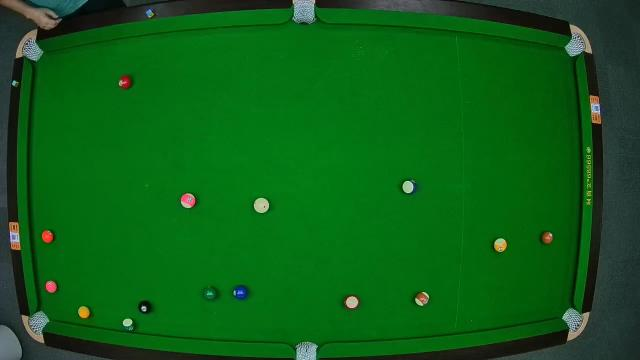bag1: (22, 40, 40, 60)
bag2: (294, 1, 316, 25)
bag3: (567, 33, 587, 57)
bag4: (29, 310, 47, 332)
bag5: (294, 340, 318, 360)
bag6: (564, 308, 582, 330)
ball0: (254, 197, 268, 214)
ball1: (78, 305, 90, 319)
ball10: (402, 179, 418, 195)
ball11: (344, 295, 360, 311)
ball12: (180, 192, 196, 208)
ball13: (121, 317, 135, 333)
ball14: (414, 292, 430, 308)
ball2: (234, 284, 250, 300)
ball3: (120, 76, 132, 90)
ball4: (46, 280, 58, 294)
ball5: (42, 229, 54, 243)
ball6: (202, 286, 218, 300)
ball7: (540, 230, 554, 244)
ball8: (138, 300, 152, 314)
ball9: (493, 238, 507, 253)
